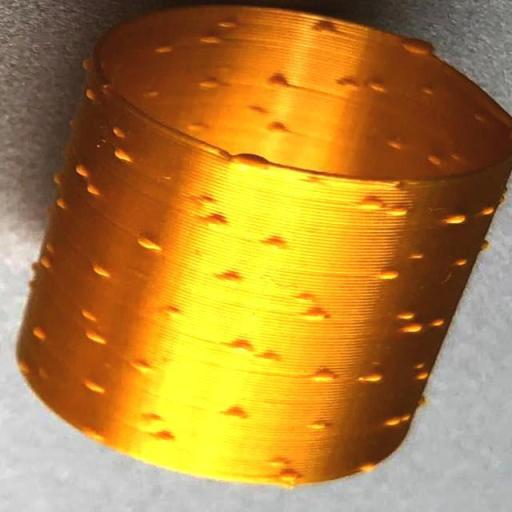blobs: (251, 342, 286, 370), (221, 333, 252, 359), (360, 75, 390, 98), (140, 231, 168, 255), (84, 330, 112, 353), (215, 406, 247, 426), (80, 423, 110, 444), (258, 236, 294, 253), (298, 306, 336, 322), (352, 194, 384, 213), (265, 72, 289, 97), (310, 18, 340, 38), (403, 39, 434, 58), (79, 372, 106, 393), (200, 209, 226, 230), (85, 262, 119, 278), (264, 120, 296, 137), (181, 116, 208, 136), (406, 362, 434, 381), (214, 269, 242, 288), (434, 215, 471, 229), (107, 147, 139, 163), (310, 365, 336, 384), (126, 356, 152, 375), (466, 202, 495, 219), (382, 134, 405, 155), (360, 369, 387, 386), (302, 418, 330, 434), (380, 414, 408, 430), (332, 76, 358, 93), (154, 428, 178, 446), (422, 312, 446, 330), (208, 15, 235, 31), (158, 304, 184, 320), (378, 266, 400, 284), (400, 322, 426, 337), (79, 306, 98, 326), (153, 42, 174, 60), (141, 88, 170, 101), (201, 74, 223, 91), (104, 121, 126, 138), (387, 205, 411, 220), (421, 150, 441, 168), (195, 32, 220, 46), (34, 254, 52, 273), (416, 80, 435, 98), (70, 162, 90, 179), (274, 468, 299, 481), (28, 325, 46, 343), (80, 86, 98, 104), (50, 193, 69, 210), (82, 181, 101, 197), (359, 459, 376, 473), (398, 309, 416, 322)
